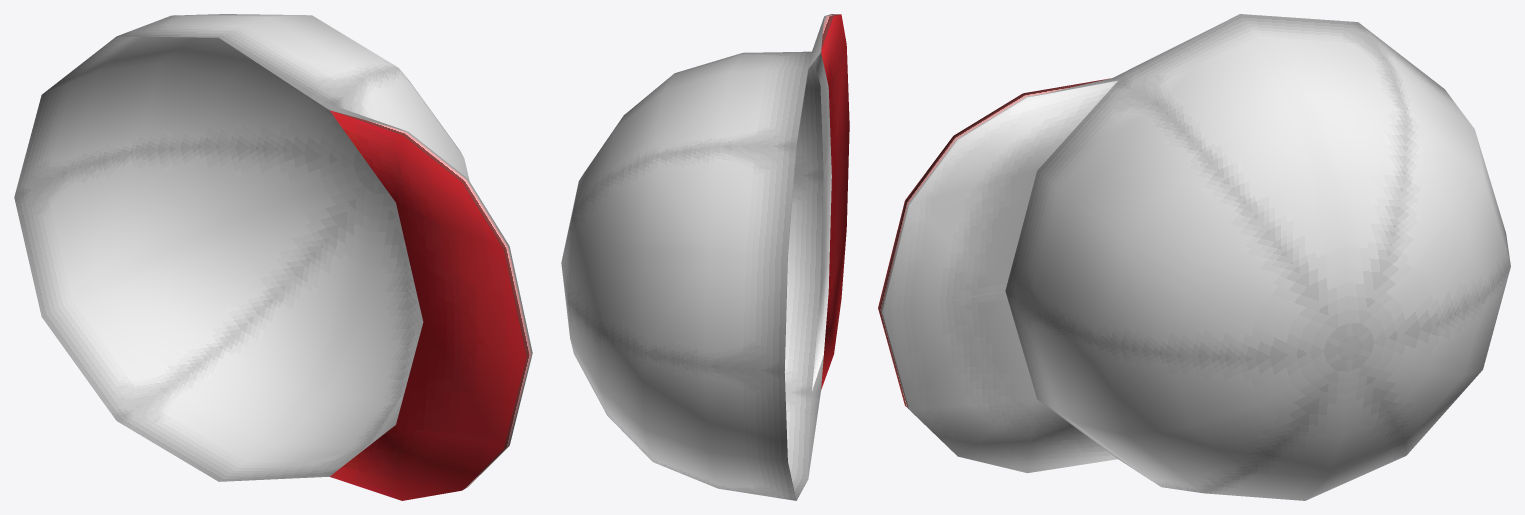
File: cap_cap_group_white.dae
The picture shows the model from 3 angles, left to right: view 1: azimuth 30°, elevation 25°; view 2: azimuth 150°, elevation 25°; view 3: azimuth 270°, elevation 25°; orthographic projection. The views are drawn at different scales.
Visible parts, largest first — view 1: cap_cap_group_white; view 2: cap_cap_group_white; view 3: cap_cap_group_white.
Part boxes in pixels (x1=…): cap_cap_group_white: x1=14, y1=14, x2=532, y2=500; cap_cap_group_white: x1=561, y1=14, x2=849, y2=500; cap_cap_group_white: x1=878, y1=14, x2=1510, y2=500.
Bounding box in the file's own units: 16.08 × 21.14 × 26.58.
1 material, 1 textured.
